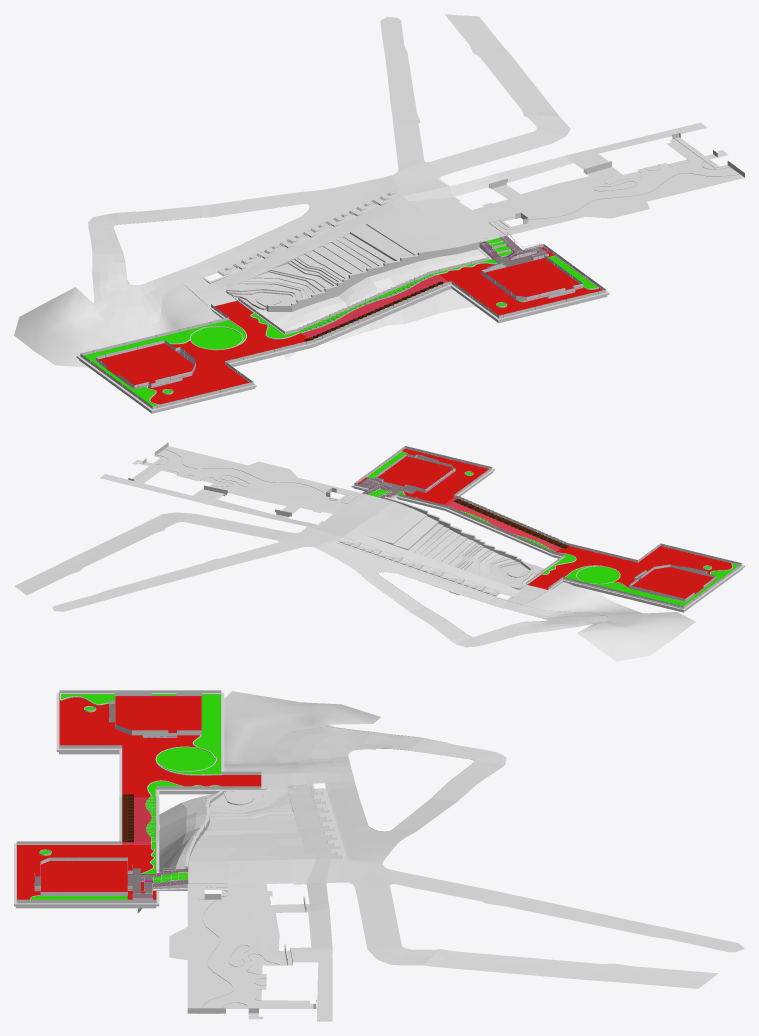
File: OrlaExternoCompleta.fbx
3 views of the same model, one above another, from view 1: azimuth 30°, elevation 25°; view 2: azimuth 150°, elevation 25°; view 3: azimuth 270°, elevation 25° (orthographic). The views are drawn at different scales.
Parts seen in each view (by area): view 1: OK - Asfalto, Grama, Ok - Escadaria, Paralelepipedo, Plataforma-Piso_vermelho.001, Plataforma-Grade, Terra, Plataforma-Jardim, Plataforma-Piso_vermelho.002, Plataforma-Piso_vermelho, Plataforma-Piso_vermelho.003, OK - Muro Orla (+14 smaller); view 2: OK - Asfalto, Ok - Escadaria, Grama, Paralelepipedo, Plataforma-Piso_vermelho.001, Plataforma-Grade, Terra, Plataforma-Piso_vermelho, Plataforma-Jardim, Plataforma-Piso_vermelho.002, Plataforma-Piso_vermelho.003, Ok - PisoVERMELHO (+16 smaller); view 3: OK - Asfalto, Paralelepipedo, Grama, Ok - Escadaria, Plataforma-Piso_vermelho.001, Terra, Plataforma-Jardim, Plataforma-Piso_vermelho, Plataforma-Piso_vermelho.002, Plataforma-Grade, Plataforma-Piso_vermelho.003, Ok - PisoVERMELHO (+11 smaller).
Boxes of the visible parts, x1,y1,x2,y2 form: OK - Asfalto: (88, 14, 570, 328); Grama: (14, 159, 728, 367); Ok - Escadaria: (211, 196, 463, 310); Paralelepipedo: (394, 122, 707, 243); Plataforma-Piso_vermelho.001: (147, 301, 307, 404); Plataforma-Grade: (80, 244, 606, 409); Terra: (513, 173, 744, 233); Plataforma-Jardim: (83, 238, 597, 406); Plataforma-Piso_vermelho.002: (99, 343, 194, 385); Plataforma-Piso_vermelho: (439, 247, 602, 315); Plataforma-Piso_vermelho.003: (485, 258, 579, 296); OK - Muro Orla: (266, 241, 479, 311); OK - Asfalto: (14, 512, 609, 647); Ok - Escadaria: (343, 501, 532, 596); Grama: (155, 455, 695, 661); Paralelepipedo: (100, 474, 393, 541); Plataforma-Piso_vermelho.001: (527, 546, 732, 589); Plataforma-Grade: (354, 446, 742, 608); Terra: (165, 446, 352, 493); Plataforma-Piso_vermelho: (357, 448, 488, 504); Plataforma-Jardim: (367, 452, 738, 606); Plataforma-Piso_vermelho.002: (632, 567, 713, 598); Plataforma-Piso_vermelho.003: (377, 456, 452, 488); Ok - PisoVERMELHO: (135, 449, 329, 499); OK - Asfalto: (275, 725, 744, 988); Paralelepipedo: (188, 858, 349, 1021); Grama: (137, 691, 380, 1008); Ok - Escadaria: (189, 784, 330, 861); Plataforma-Piso_vermelho.001: (59, 694, 261, 797); Terra: (169, 889, 232, 1008); Plataforma-Jardim: (30, 694, 220, 899); Plataforma-Piso_vermelho: (17, 845, 156, 899); Plataforma-Piso_vermelho.002: (115, 696, 201, 732); Plataforma-Grade: (16, 690, 261, 903); Plataforma-Piso_vermelho.003: (41, 861, 127, 891); Ok - PisoVERMELHO: (198, 894, 316, 1013).
Size of what is drawn, in the model's own units: 30515 by 2654 by 25020.
